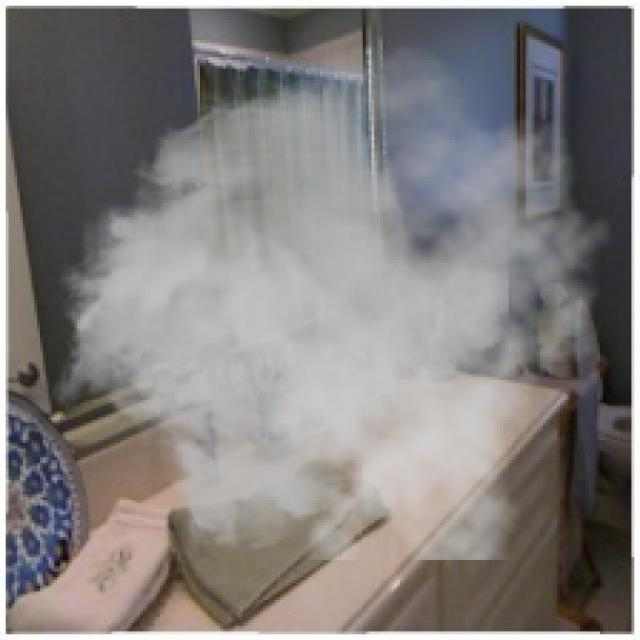Smoke: (48, 43, 614, 560)
